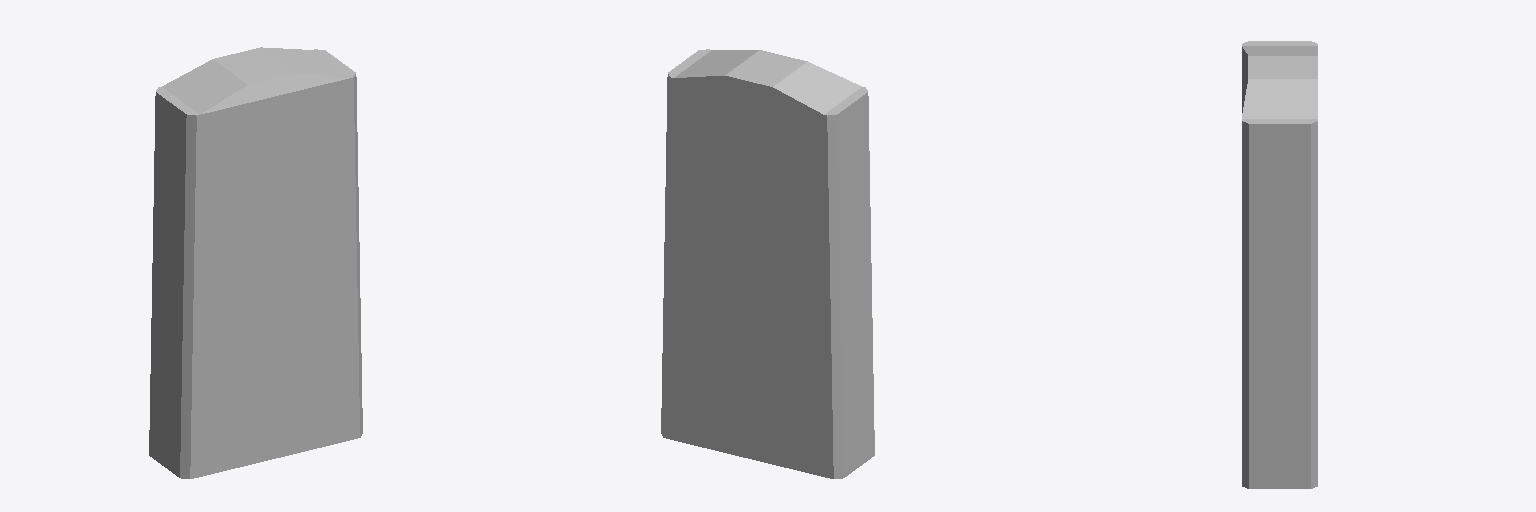
Rendered from light.obj.
3 renders of one model, left to right at view 1: azimuth 30°, elevation 25°; view 2: azimuth 150°, elevation 25°; view 3: azimuth 270°, elevation 25°, orthographic.
Parts seen in each view (by area): view 1: Cube_Cube.001; view 2: Cube_Cube.001; view 3: Cube_Cube.001.
Part boxes in pixels (x1,y1,x2,y2): Cube_Cube.001: (149, 47, 362, 478); Cube_Cube.001: (661, 49, 874, 478); Cube_Cube.001: (1242, 41, 1317, 488).
Bounding box in the file's own units: 6.71 × 13.22 × 2.44.